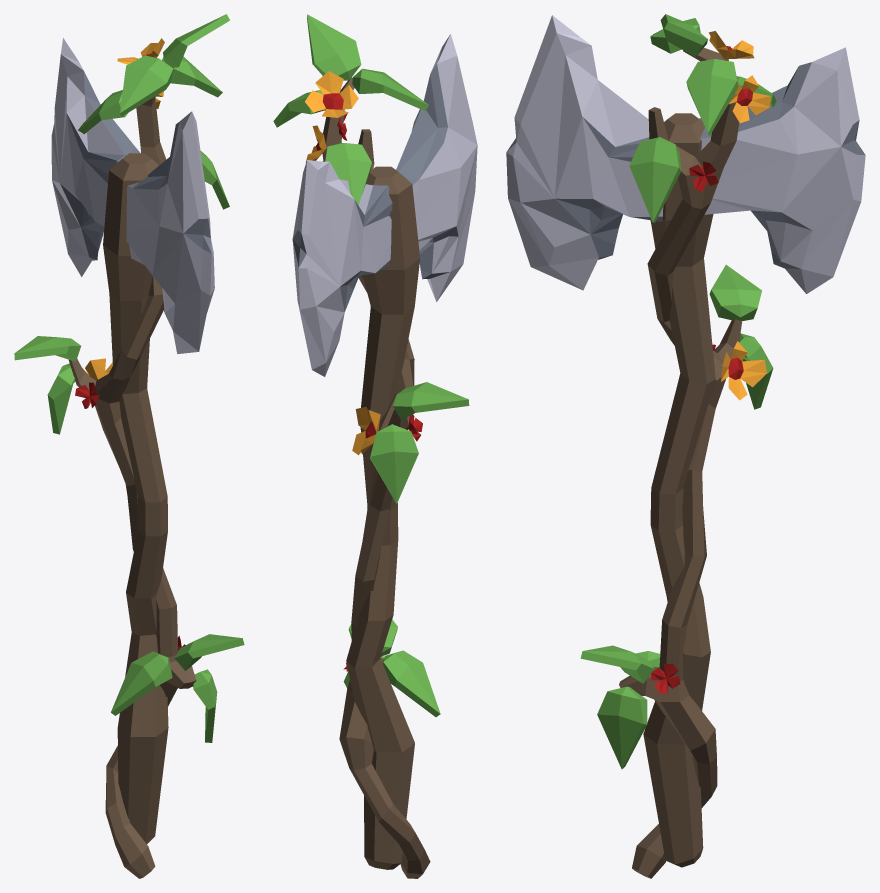
File: Axe_Nature_00.FBX
The picture shows the model from 3 angles, left to right: view 1: azimuth 30°, elevation 25°; view 2: azimuth 150°, elevation 25°; view 3: azimuth 270°, elevation 25°; orthographic projection. The views are drawn at different scales.
Parts seen in each view (by area): view 1: Axe_Nature_00; view 2: Axe_Nature_00; view 3: Axe_Nature_00.
Part boxes in pixels (x1,y1,x2,y2): Axe_Nature_00: (14,14,244,878); Axe_Nature_00: (273,14,477,878); Axe_Nature_00: (506,14,865,878).
Bounding box in the file's own units: 0.3555 × 1.41 × 0.5075.
